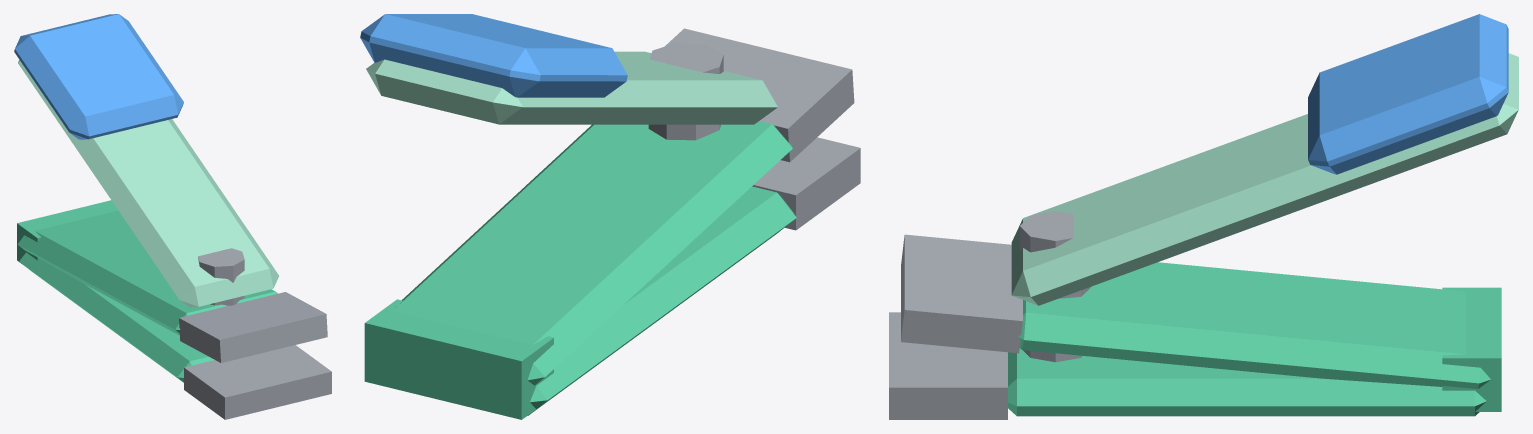
The model's file is CleanACat_Tool_Clipper.fbx.
3 renders of one model, left to right at view 1: azimuth 30°, elevation 25°; view 2: azimuth 150°, elevation 25°; view 3: azimuth 270°, elevation 25°, orthographic. The views are drawn at different scales.
Visible parts, largest first — view 1: CleanACat_Tool_Clipper; view 2: CleanACat_Tool_Clipper; view 3: CleanACat_Tool_Clipper.
Boxes of the visible parts, x1,y1,x2,y2 form: CleanACat_Tool_Clipper: (14,14,331,419); CleanACat_Tool_Clipper: (360,14,860,419); CleanACat_Tool_Clipper: (889,14,1518,419).
Bounding box in the file's own units: 0.32 × 0.63 × 1.06.
1 material, 1 textured.
